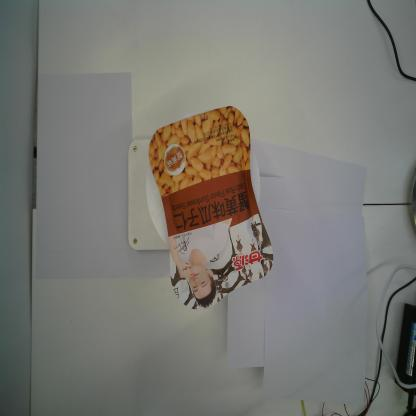Dried Fruit: (148, 105, 274, 311)
